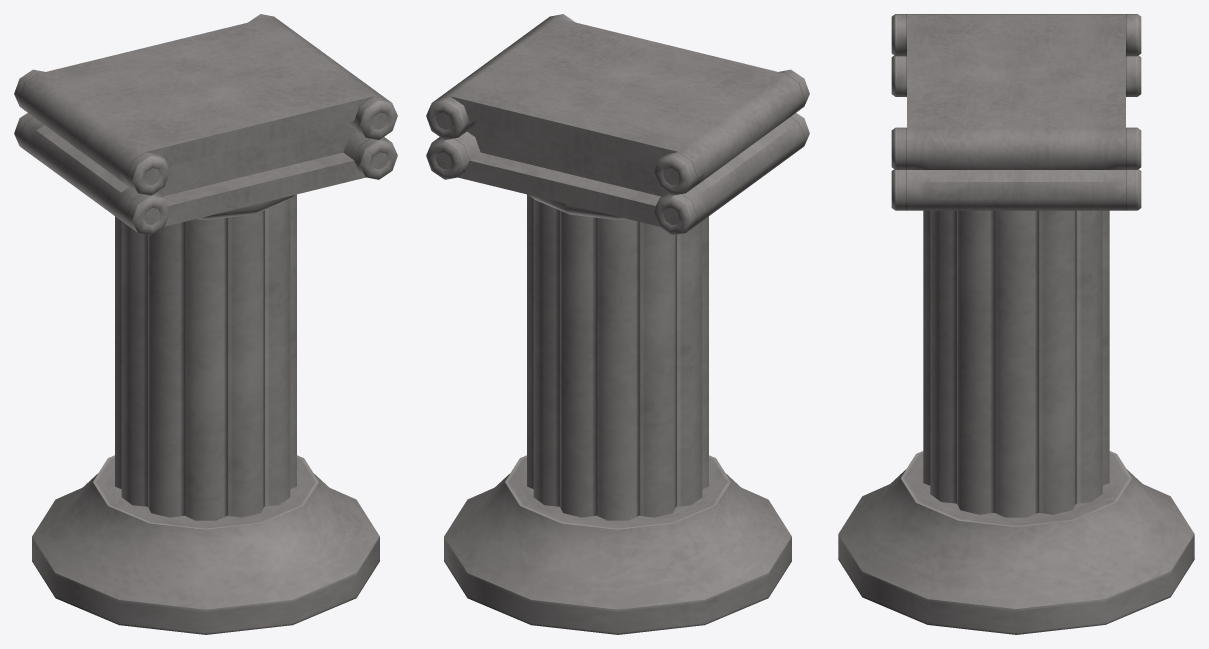
File: HeistPedestal.fbx
The picture shows the model from 3 angles, left to right: view 1: azimuth 30°, elevation 25°; view 2: azimuth 150°, elevation 25°; view 3: azimuth 270°, elevation 25°; orthographic projection. The views are drawn at different scales.
Visible parts, largest first — view 1: Pedestal; view 2: Pedestal; view 3: Pedestal.
Part boxes in pixels (x1=…): Pedestal: x1=14, y1=14, x2=397, y2=634; Pedestal: x1=426, y1=14, x2=809, y2=634; Pedestal: x1=838, y1=14, x2=1194, y2=634.
Bounding box in the file's own units: 7.94 × 12 × 7.94.
Materials: 3 (2 with a texture image).
